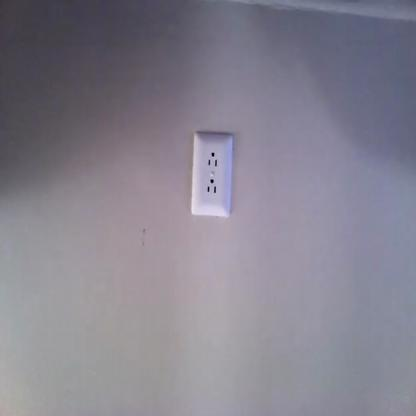OUTLET: (190, 132, 234, 216)
